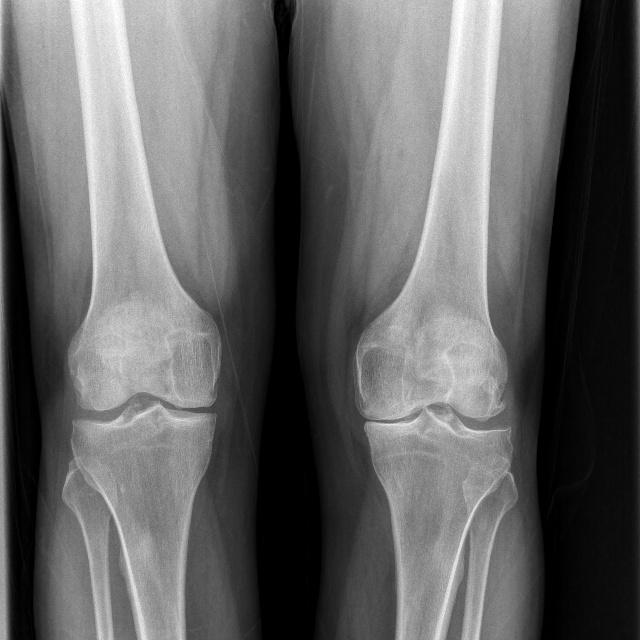Knee: (349, 347, 516, 481), (63, 344, 220, 475)
